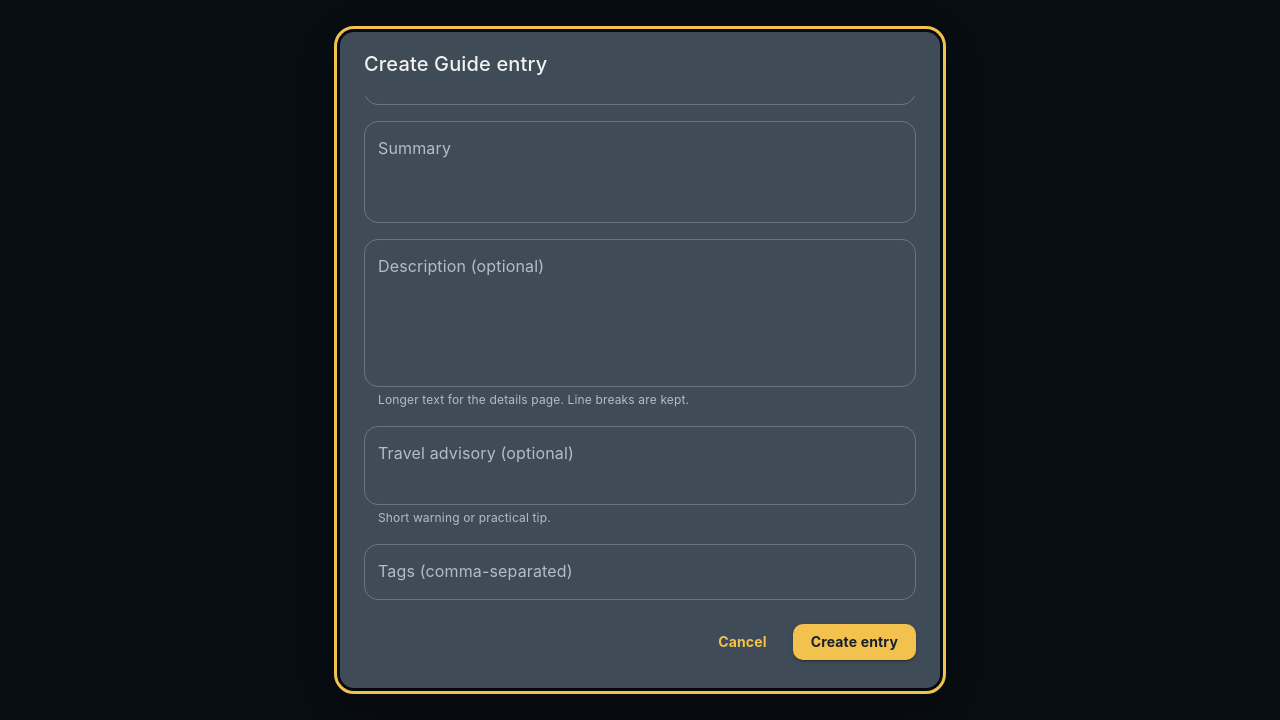
Test case: GuideEntryFormDialog › create mode › requires an id, name and summary
This screenshot has width=1280, height=720.
(page scrolled)
Click the button "Create entry": (854, 642) left=793, top=624, right=916, bottom=660
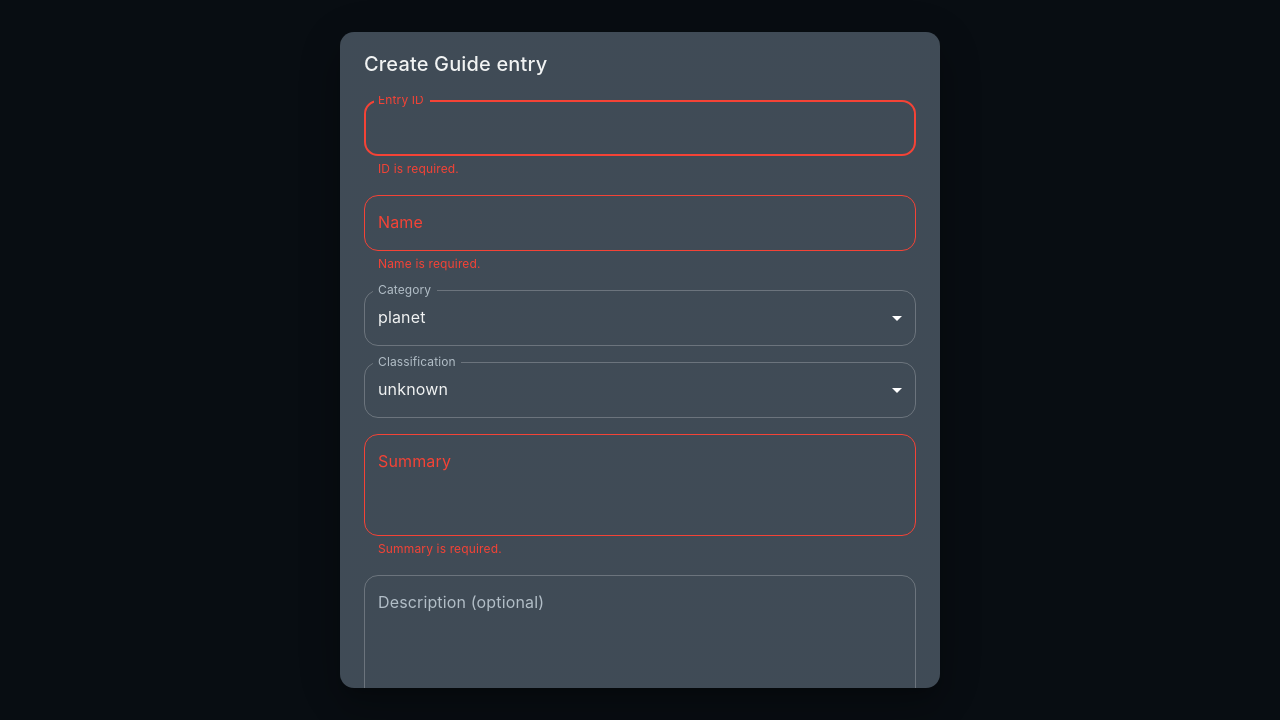
Check: the text "ID is required." is shown, box left=378, top=161, right=459, bottom=176
Check: the text "Name is required." is shown, box left=378, top=256, right=481, bottom=271
Check: the text "Summary is required." is shown, box left=378, top=541, right=502, bottom=556
